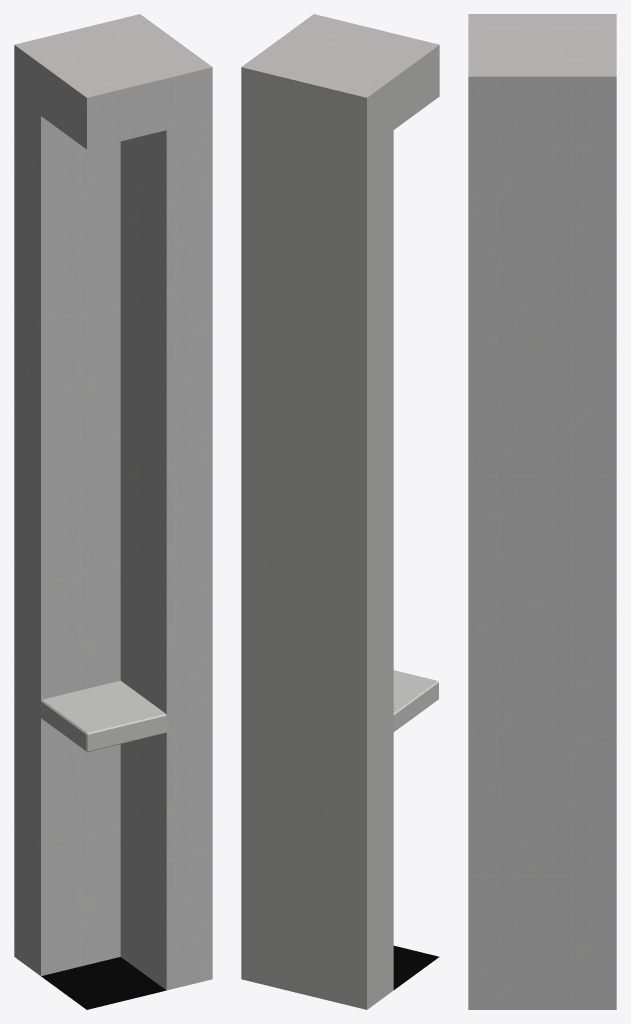
Rendered from WallCorner.fbx.
3 views of the same model, side by side, from view 1: azimuth 30°, elevation 25°; view 2: azimuth 150°, elevation 25°; view 3: azimuth 270°, elevation 25° (orthographic). The views are drawn at different scales.
Parts seen in each view (by area): view 1: WallCorner, Floor, Pit; view 2: WallCorner, Floor, Pit; view 3: WallCorner.
Boxes of the visible parts, left/top/right/bottom form: WallCorner: left=14, top=14, right=212, bottom=990; Floor: left=41, top=680, right=166, bottom=751; Pit: left=41, top=957, right=166, bottom=1009; WallCorner: left=241, top=14, right=439, bottom=1009; Floor: left=393, top=670, right=438, bottom=731; Pit: left=393, top=945, right=439, bottom=989; WallCorner: left=468, top=14, right=616, bottom=1009.
Size of the model in its own units: 205 by 1420 by 205.
